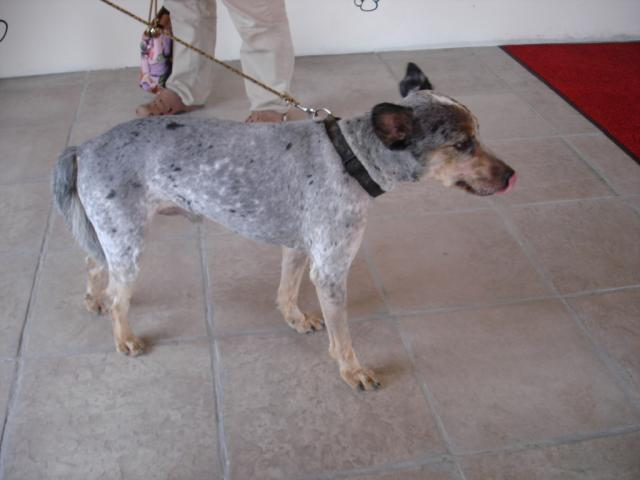Dog: (50, 61, 519, 392)
